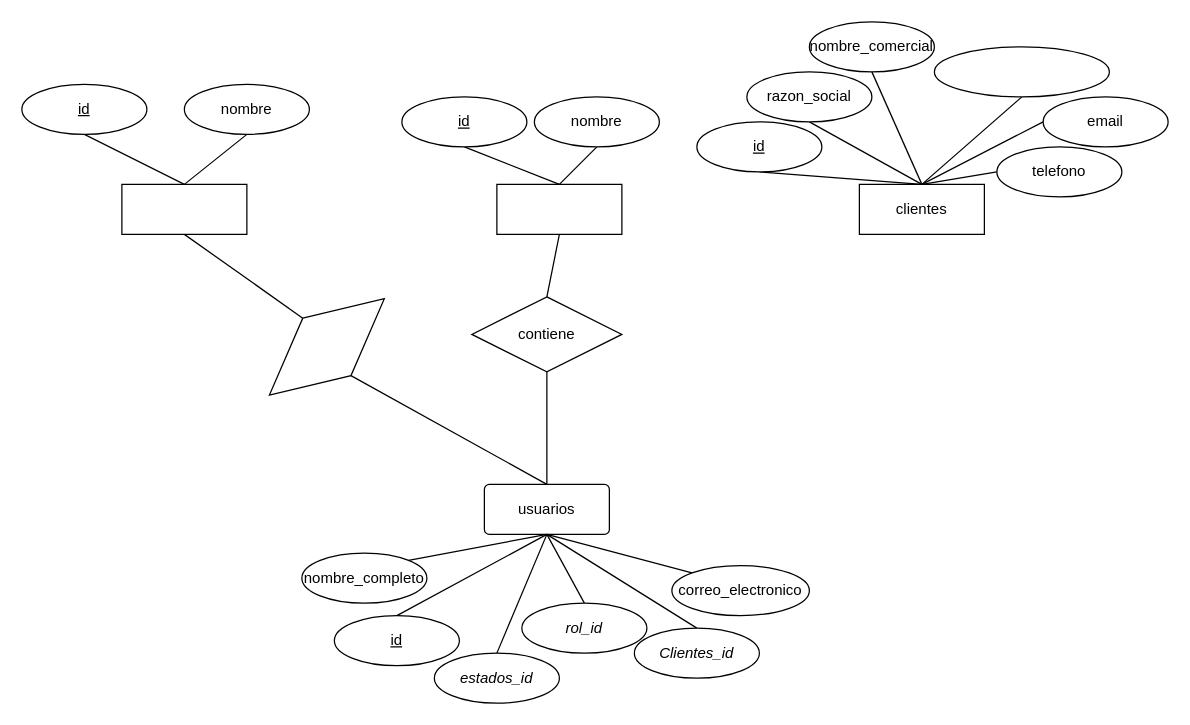
Some shapes in this 1190 by 725 pixel diagram are drawn without their labels. Here are the shapes that lost their labels. From the top down, the centre of each, then its label:
At (1021,71): "direccion _entrega".
At (184,208): "estados".
At (559,208): "rol".
At (326,346): "Permite".
